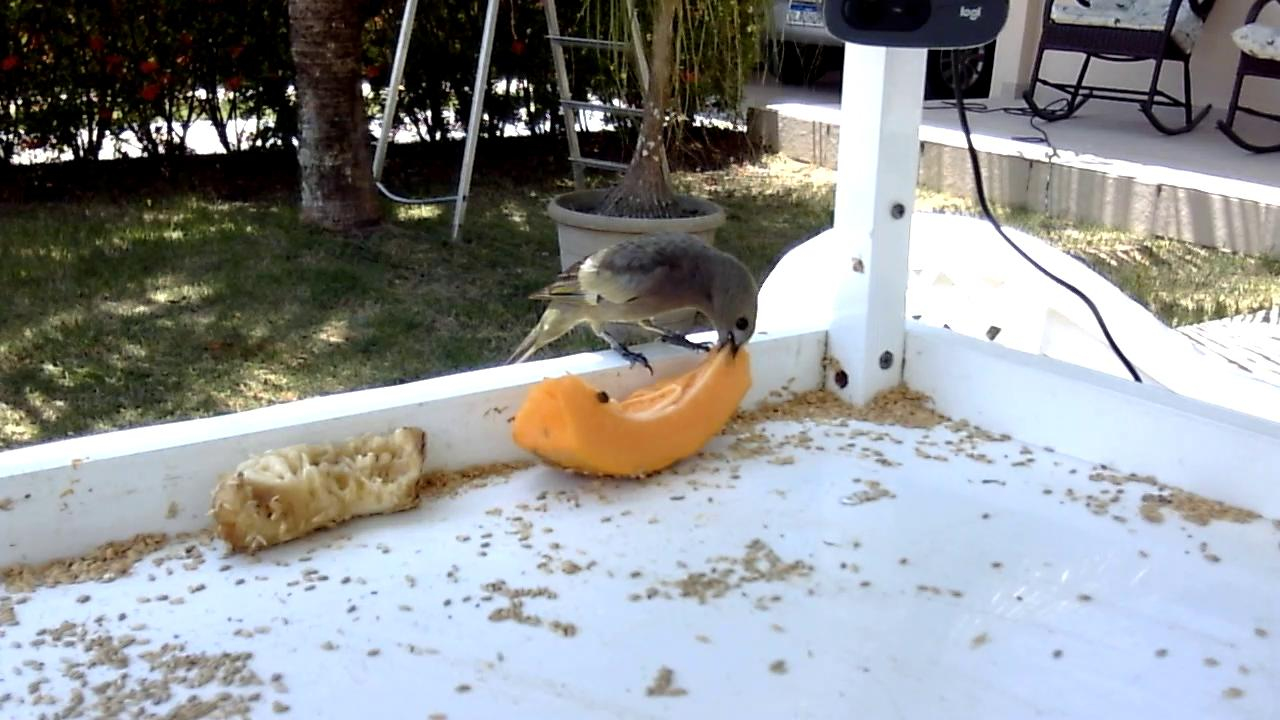sanhaco_do_coqueiro: (505, 230, 761, 380)
